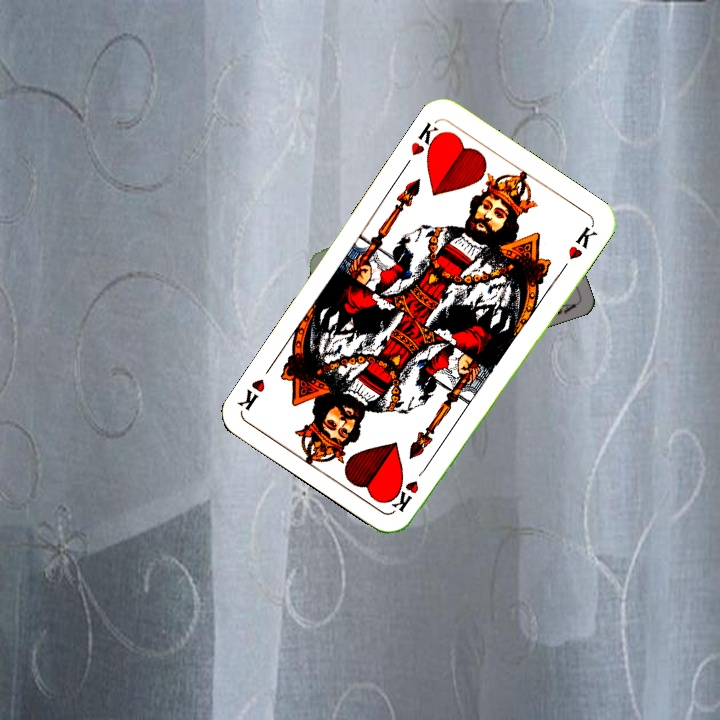HK: (387, 461, 431, 515), (406, 117, 447, 161)
